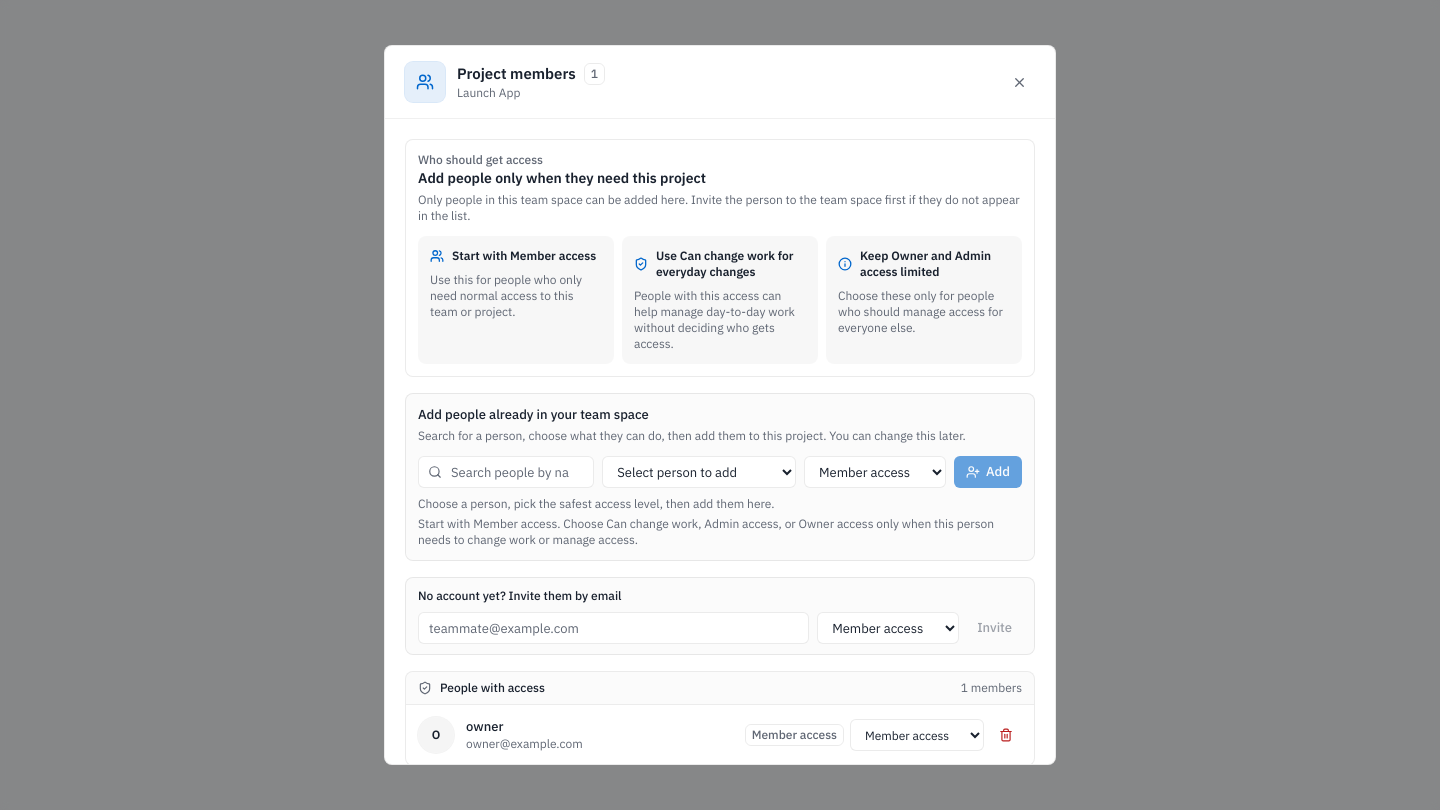
Test: ResourceMembersModal › explains filtered candidate results without hiding current access
Expected: the text "owner" is shown, x1=466 y1=718 x2=503 y2=735
Type "missing-user" into the search field named "Filter team-space people" at coordinates (506, 472), box x1=418 y1=456 x2=594 y2=488
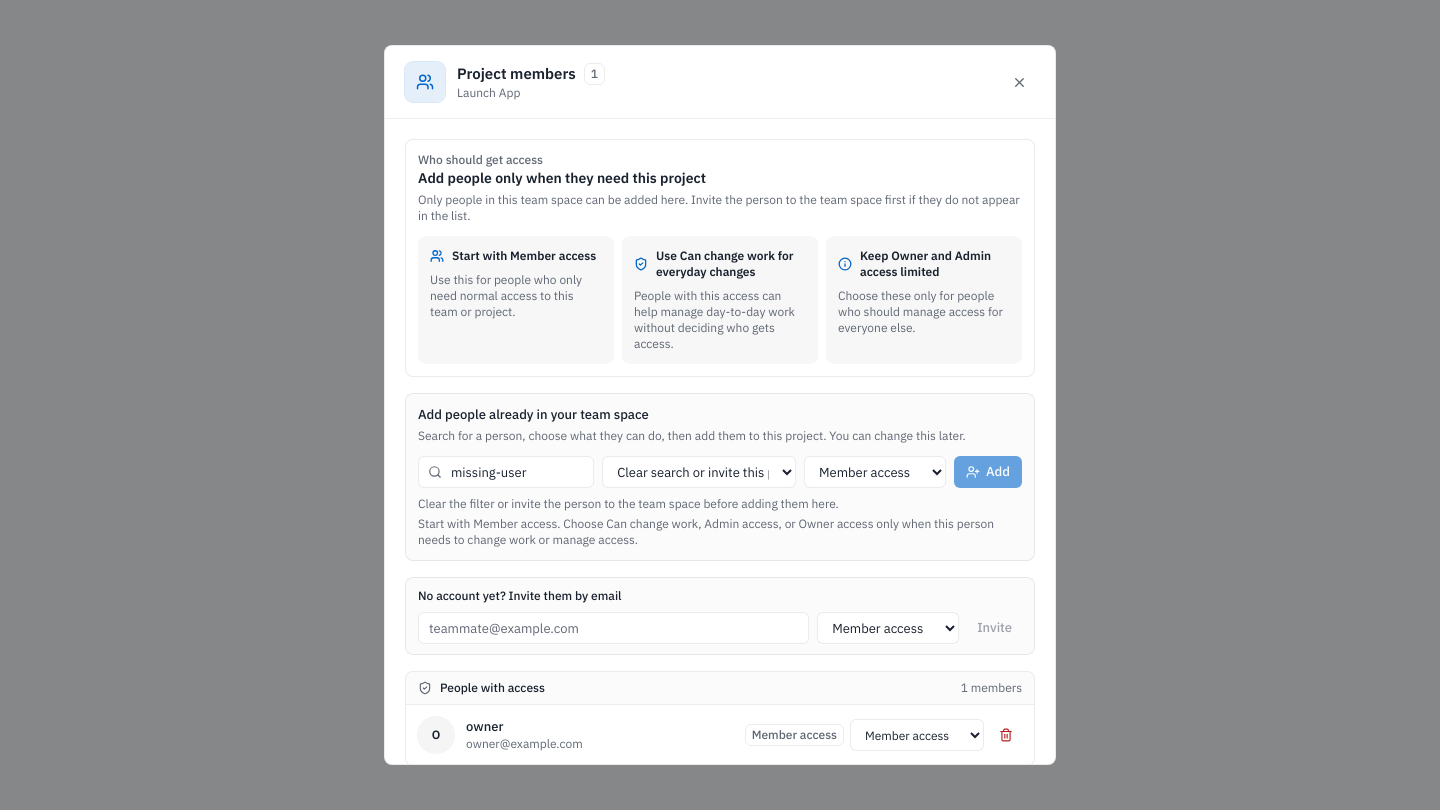
Expected: the text "owner@example.com" is shown, x1=466 y1=736 x2=583 y2=752
Now the text "Clear the filter or invite the person to the team space before adding them here." is shown, box x1=418 y1=496 x2=839 y2=511
